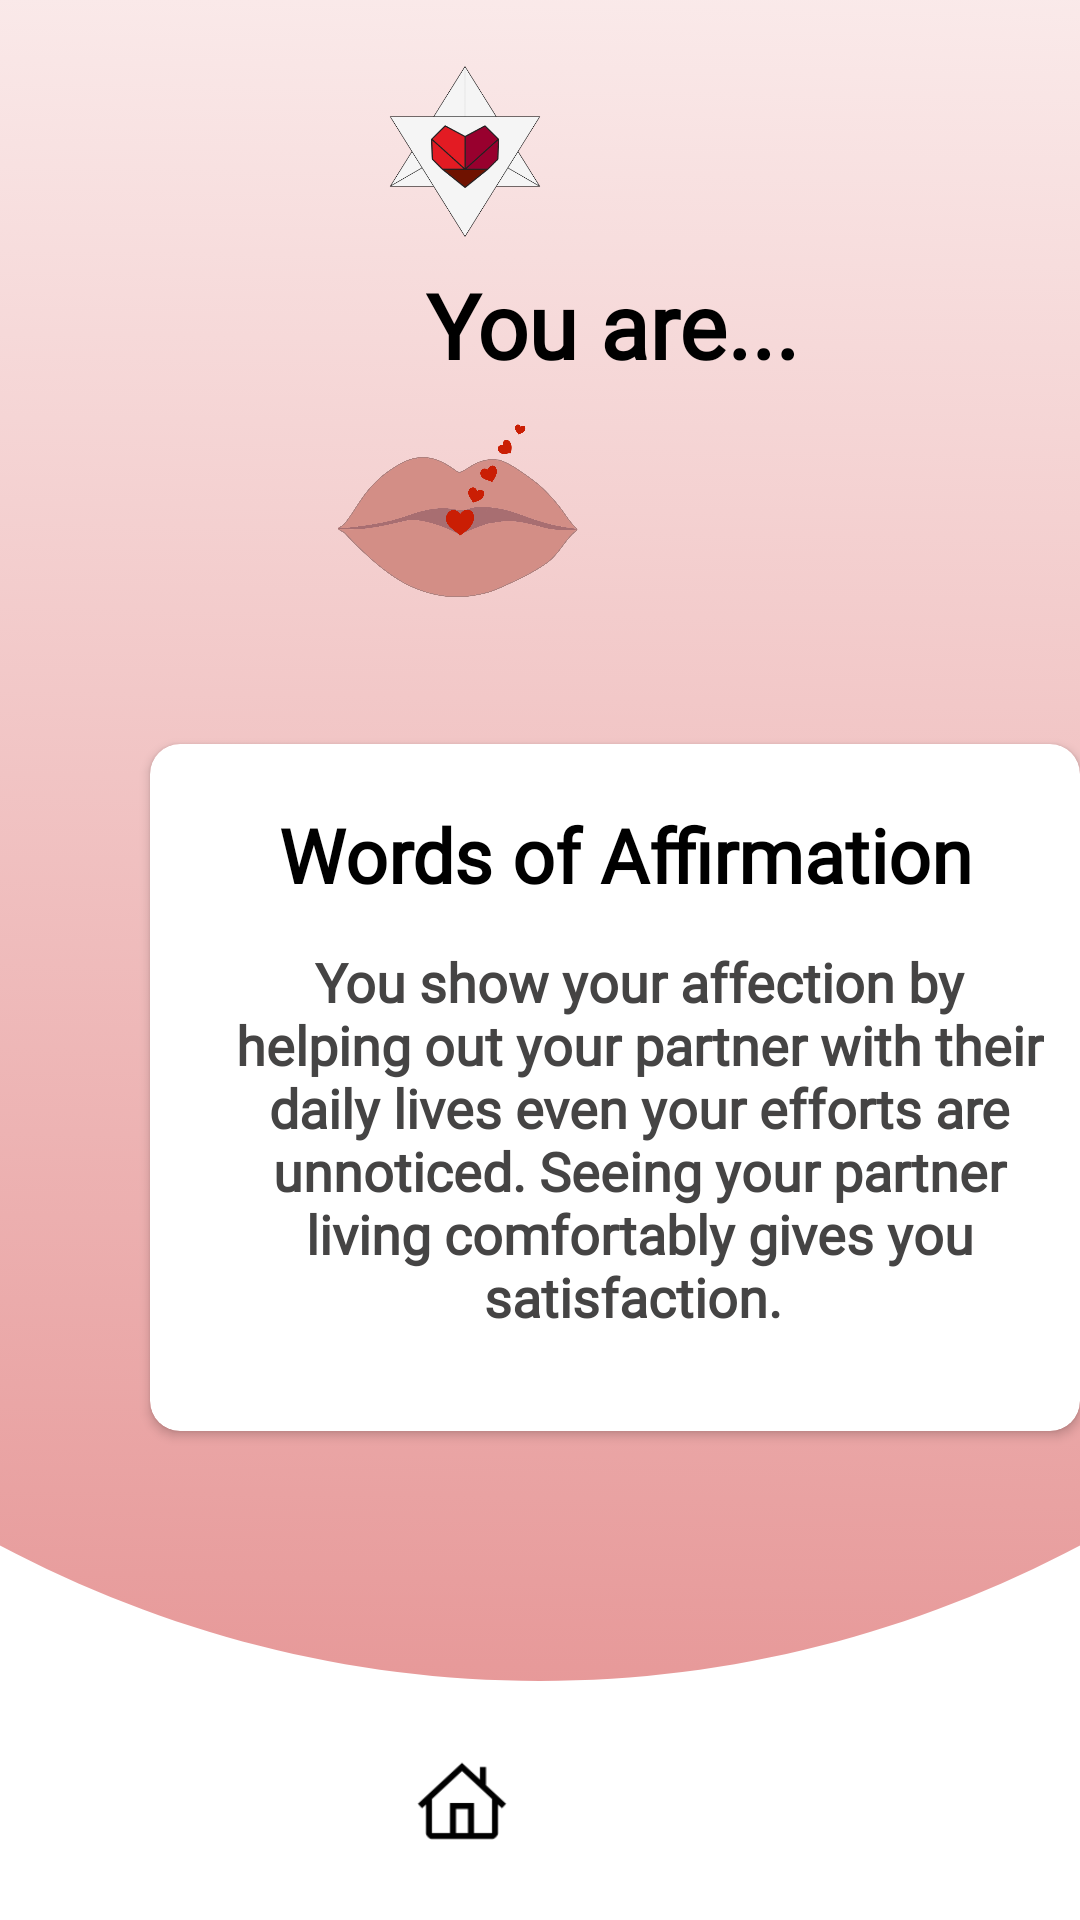

Where to tap for icons on this 1080w x 1920h app screen, as (x,y):
homeicon: (462,1801)
